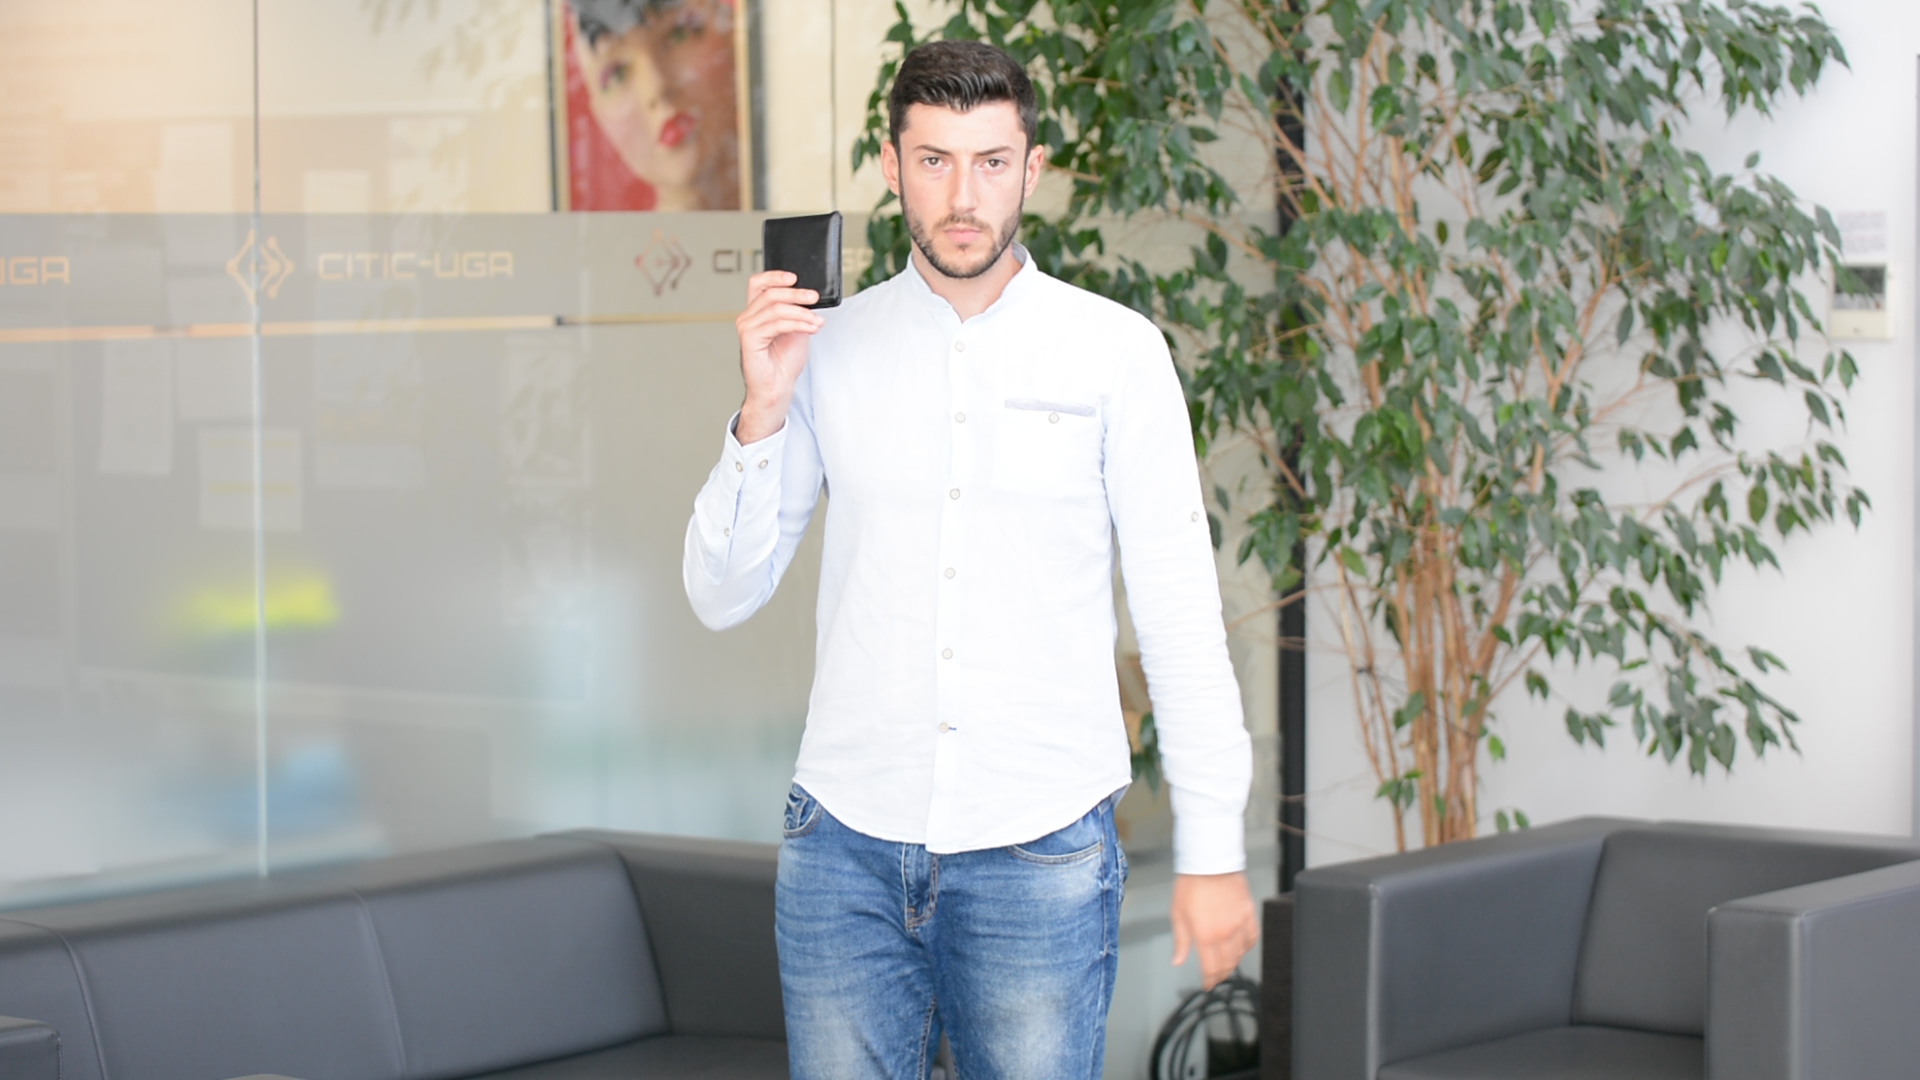monedero: (757, 207, 847, 310)
